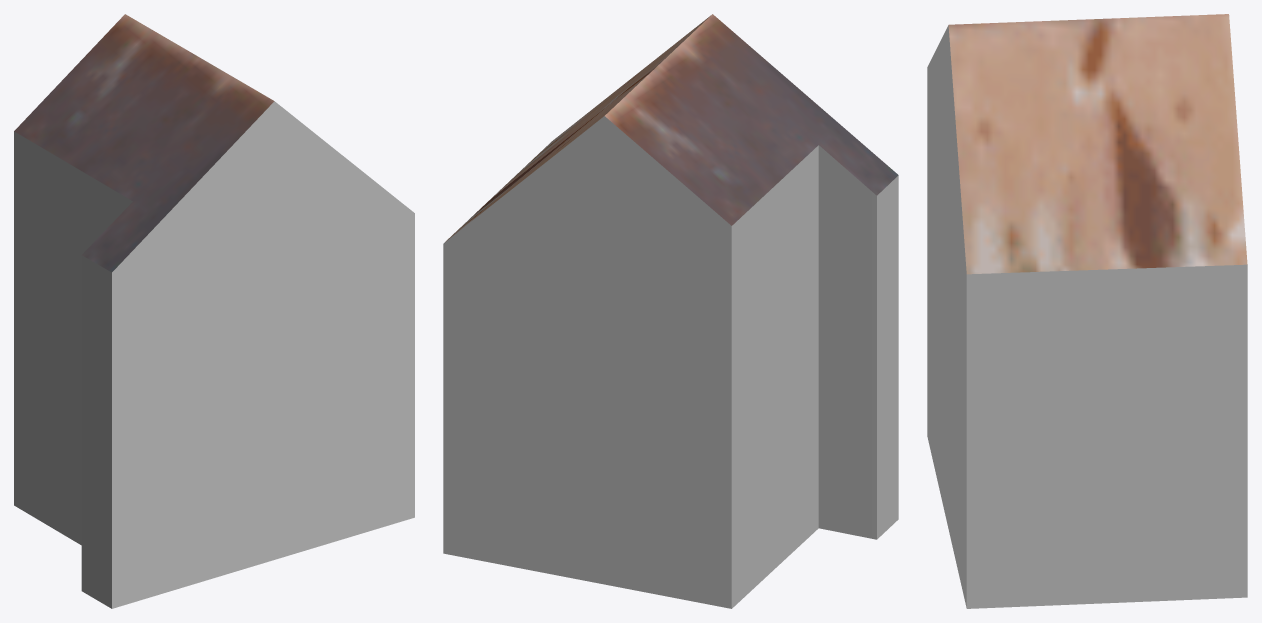
Rendered from DEBW_0010007Tx8A.gltf.
3 views of the same model, side by side, from view 1: azimuth 30°, elevation 25°; view 2: azimuth 150°, elevation 25°; view 3: azimuth 270°, elevation 25° (orthographic). The views are drawn at different scales.
Parts seen in each view (by area): view 1: Z_UP; view 2: Z_UP; view 3: Z_UP.
Boxes of the visible parts, bbox=[...] form: Z_UP: bbox=[14, 14, 414, 608]; Z_UP: bbox=[443, 14, 898, 608]; Z_UP: bbox=[927, 14, 1247, 608].
Size of the model in its own units: 13.77 by 18.56 by 10.67.
Materials: 2 (1 with a texture image).
